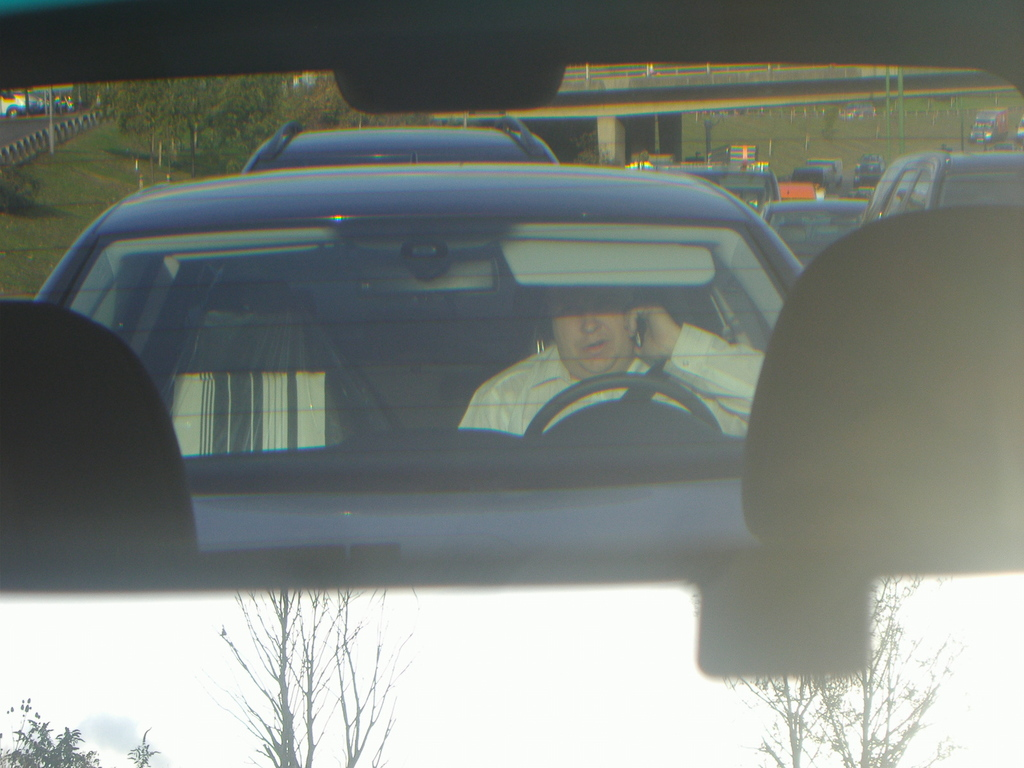person: (457, 261, 726, 444)
